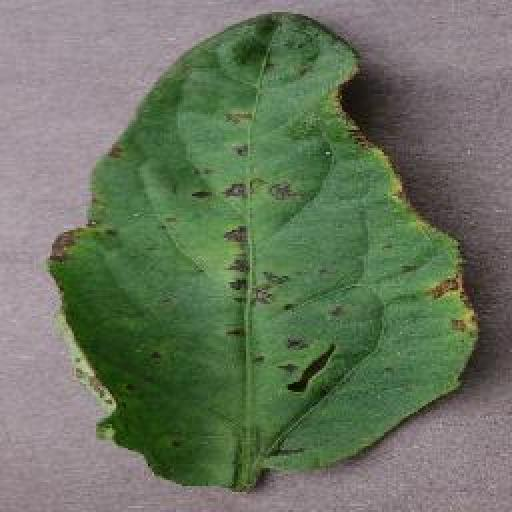Bacterial Spot: (47, 8, 481, 491)
